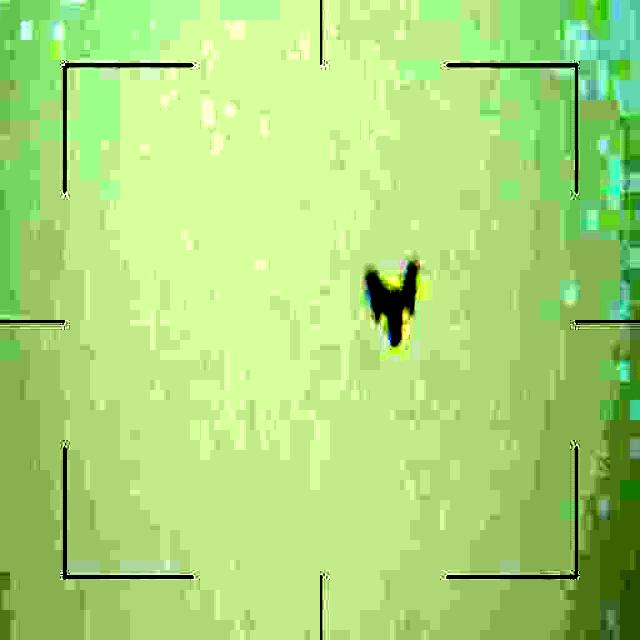bird: (365, 264, 428, 356)
